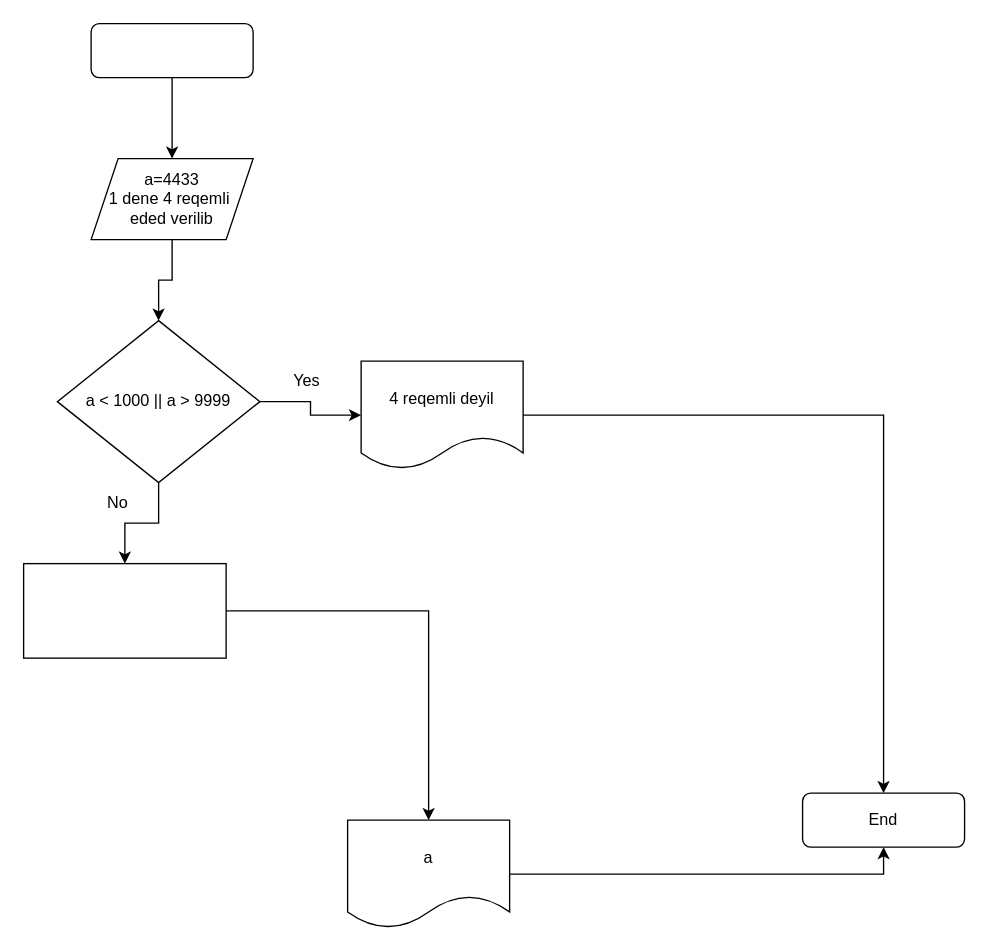
This 988x952 diagram has some shape labels left out. Each missing label, with the centre of its shape:
a = a + 70000; a = a * 10 + 8: (x=124, y=610)
start: (x=171, y=50)
